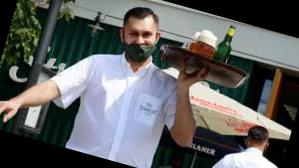mask_weared_incorrect: (120, 23, 159, 63)
